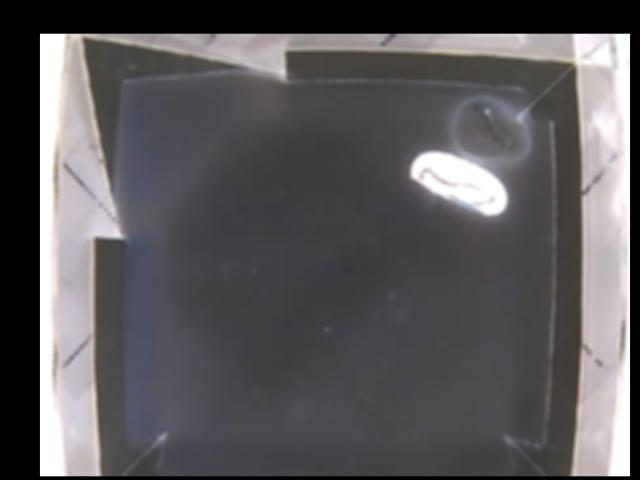Pebble: (406, 151, 504, 218), (454, 99, 526, 160)
